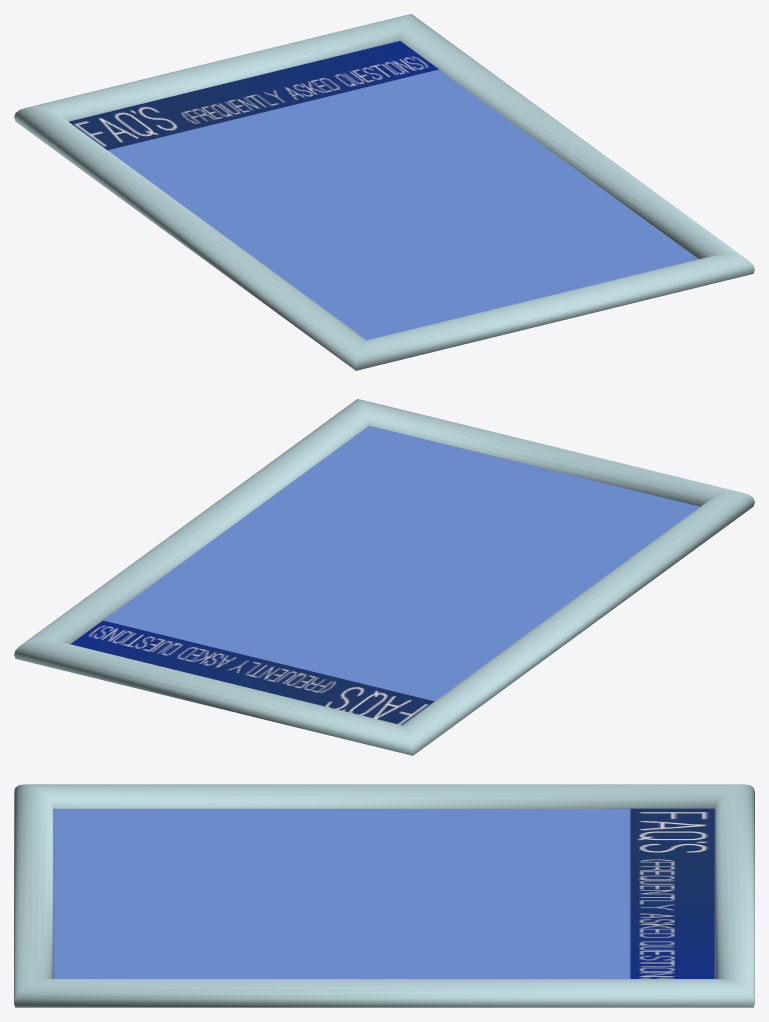
The model's file is Poster02_3.FBX.
The picture shows the model from 3 angles, top to bottom: view 1: azimuth 30°, elevation 25°; view 2: azimuth 150°, elevation 25°; view 3: azimuth 270°, elevation 25°; orthographic projection. The views are drawn at different scales.
Visible parts, largest first — view 1: Poster02_3; view 2: Poster02_3; view 3: Poster02_3.
Part boxes in pixels (left/top/right/bottom): Poster02_3: left=14, top=14, right=754, bottom=370; Poster02_3: left=14, top=399, right=754, bottom=755; Poster02_3: left=14, top=784, right=754, bottom=1007.
Size of the model in its own units: 144 by 5.75 by 214.
